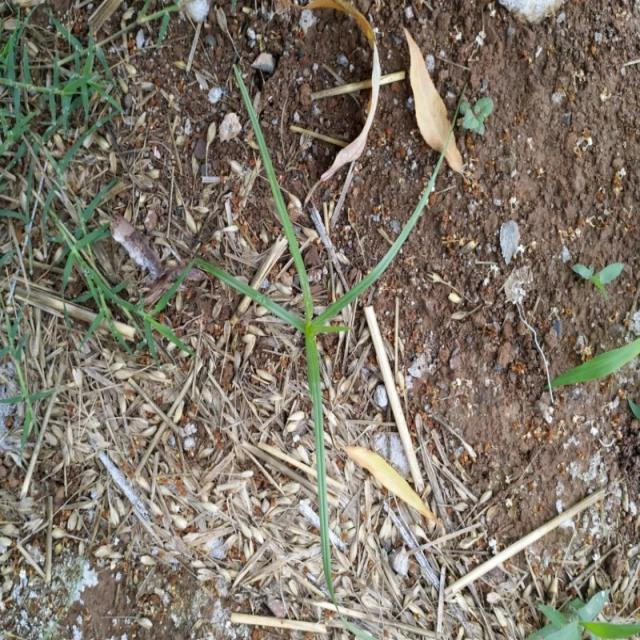sedge: (187, 78, 434, 611)
